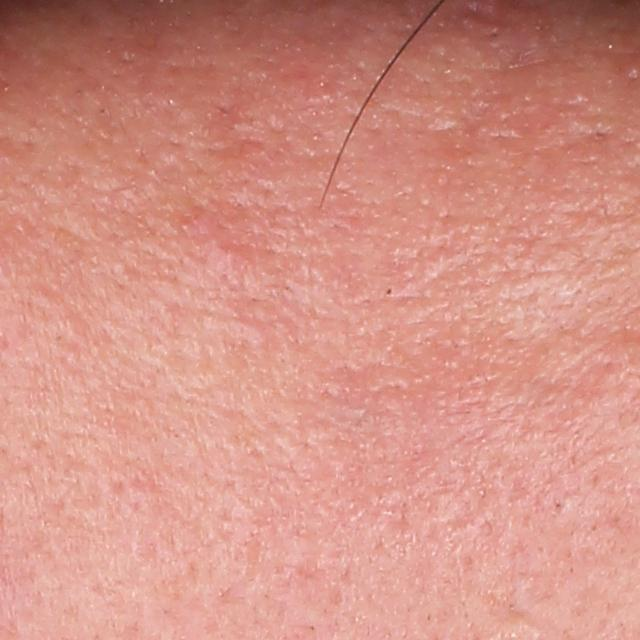comedo: (383, 283, 395, 300)
